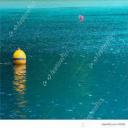red: (79, 15, 84, 20)
yellow: (12, 49, 26, 64)
